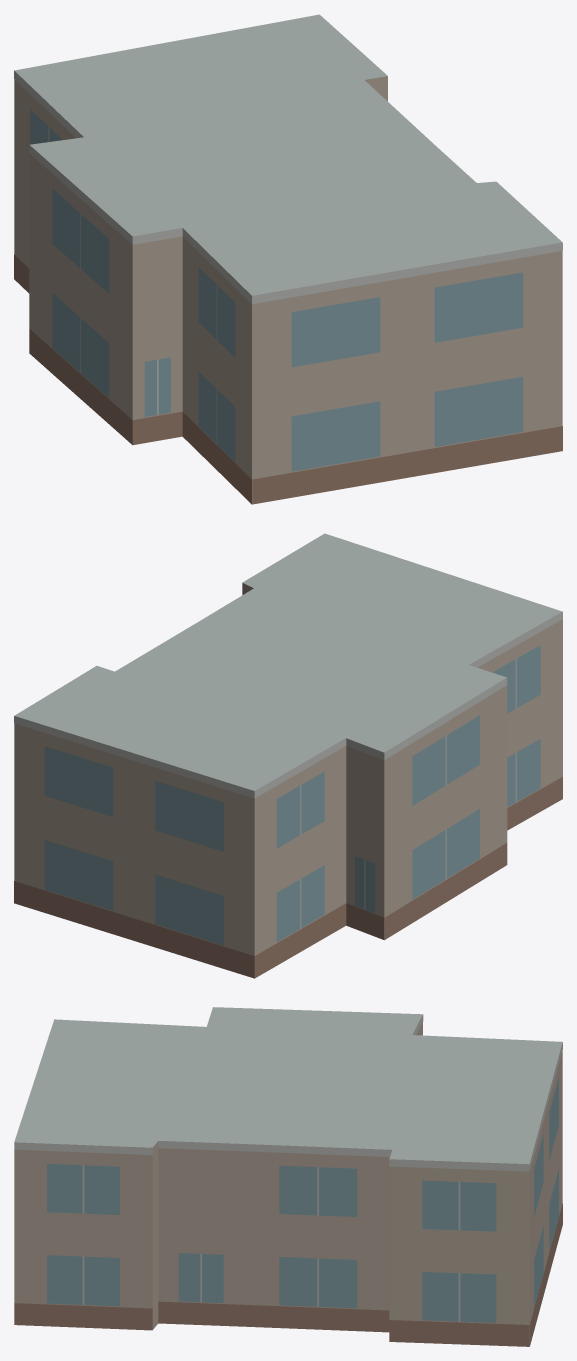
File: survey-upis-32497517.glb
3 renders of one model, top to bottom at view 1: azimuth 30°, elevation 25°; view 2: azimuth 150°, elevation 25°; view 3: azimuth 270°, elevation 25°, orthographic. The views are drawn at different scales.
Visible parts, largest first — view 1: survey-upis-32497517.tmp; view 2: survey-upis-32497517.tmp; view 3: survey-upis-32497517.tmp.
Boxes of the visible parts, box(x1,y1,x2,y2) form: survey-upis-32497517.tmp: box(14, 14, 562, 504); survey-upis-32497517.tmp: box(14, 533, 562, 978); survey-upis-32497517.tmp: box(14, 1007, 562, 1346).
Bounding box in the file's own units: 11.27 × 6.1 × 16.62.
